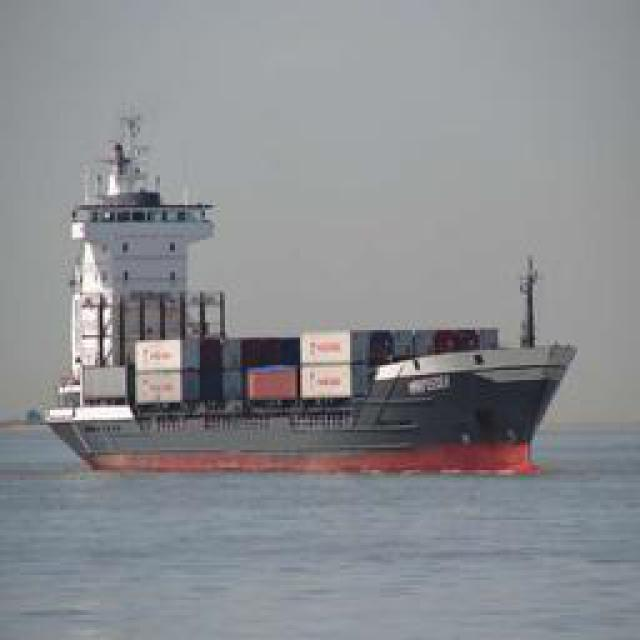Ship: (38, 141, 587, 481)
